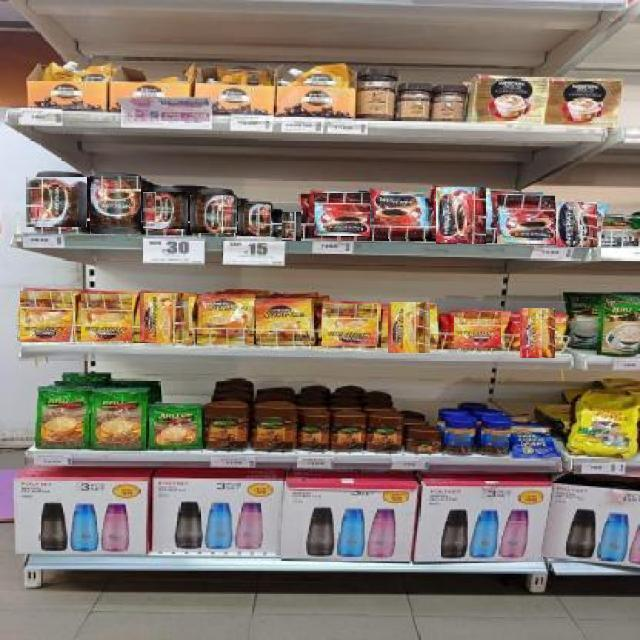Coffee: (90, 175, 141, 234), (26, 178, 87, 227), (496, 194, 555, 244), (436, 186, 486, 244), (19, 290, 73, 342), (255, 300, 313, 344), (313, 192, 370, 236), (140, 292, 189, 343), (200, 296, 252, 344), (80, 294, 132, 341), (375, 193, 427, 239), (322, 303, 377, 346), (389, 302, 430, 353), (556, 202, 597, 247), (190, 194, 237, 233), (520, 307, 555, 358), (454, 311, 501, 348), (143, 192, 188, 229), (239, 204, 271, 236), (281, 212, 301, 241)
